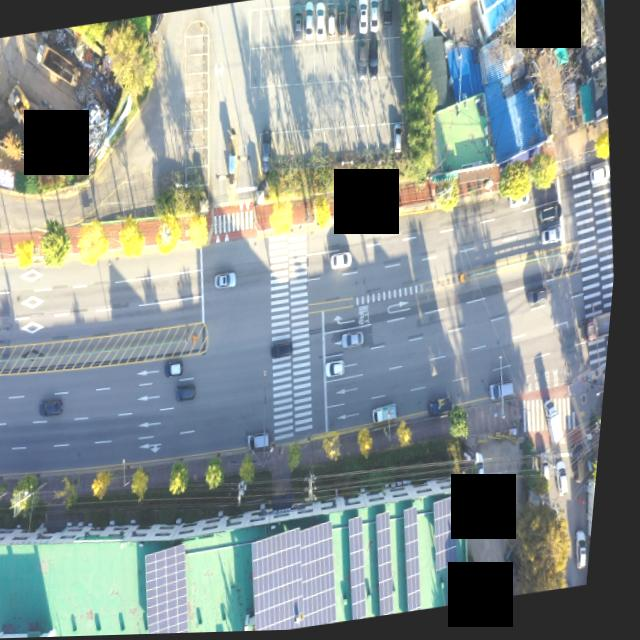car: (259, 129, 277, 174), (354, 39, 372, 81), (577, 447, 595, 486), (512, 550, 533, 583), (354, 0, 372, 36), (561, 461, 578, 499), (583, 531, 599, 570), (494, 381, 523, 402), (367, 38, 383, 76), (302, 4, 317, 41), (312, 4, 327, 41), (290, 5, 304, 43), (345, 0, 360, 35), (254, 432, 280, 452), (275, 340, 301, 360), (323, 7, 338, 41), (335, 3, 349, 38), (482, 453, 496, 488), (367, 0, 381, 34), (45, 398, 69, 417), (332, 252, 355, 271), (218, 272, 242, 290), (329, 360, 352, 378), (531, 290, 554, 308), (543, 228, 567, 245), (592, 165, 613, 184), (348, 331, 371, 348), (541, 205, 564, 222), (547, 451, 560, 480), (379, 0, 394, 25), (393, 123, 405, 153), (182, 384, 203, 401), (171, 359, 191, 375), (511, 196, 531, 210)
medium_truck: (31, 35, 87, 92), (584, 312, 617, 351)
small_truck: (547, 397, 575, 447), (432, 394, 459, 417), (377, 402, 405, 424)
